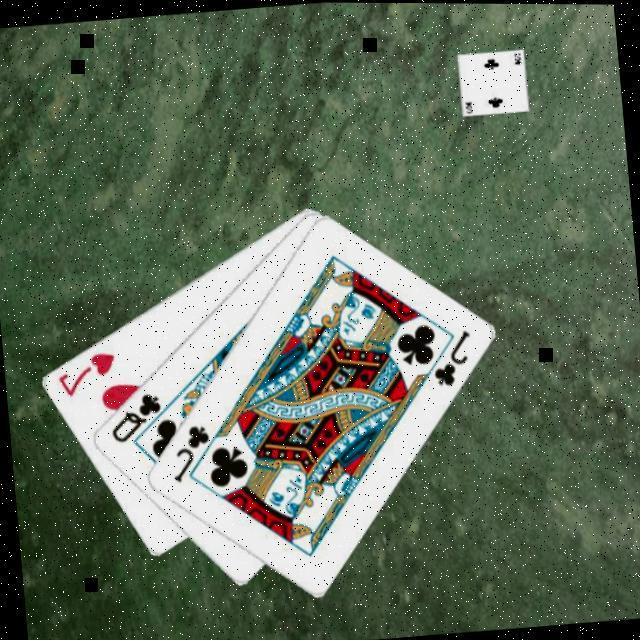7H: (52, 345, 121, 398)
JC: (426, 322, 477, 387), (166, 418, 216, 483)
QC: (105, 386, 167, 446)
